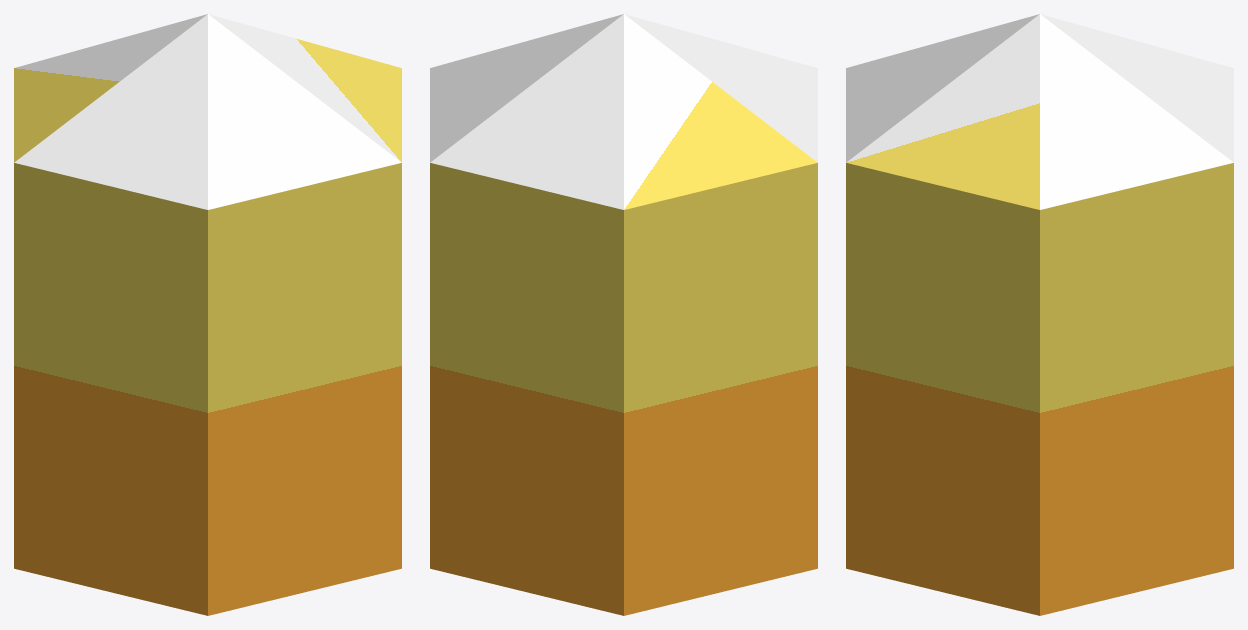
The model's file is Bell.gltf.
3 renders of one model, left to right at view 1: azimuth 30°, elevation 25°; view 2: azimuth 150°, elevation 25°; view 3: azimuth 270°, elevation 25°, orthographic.
Parts seen in each view (by area): view 1: sphere; view 2: sphere; view 3: sphere.
Boxes of the visible parts, left/top/right/bottom form: sphere: left=14, top=14, right=401, bottom=615; sphere: left=430, top=14, right=817, bottom=615; sphere: left=846, top=14, right=1233, bottom=615.
Bounding box in the file's own units: 0.125 × 0.1562 × 0.1083.
Materials: 1 (1 with a texture image).
